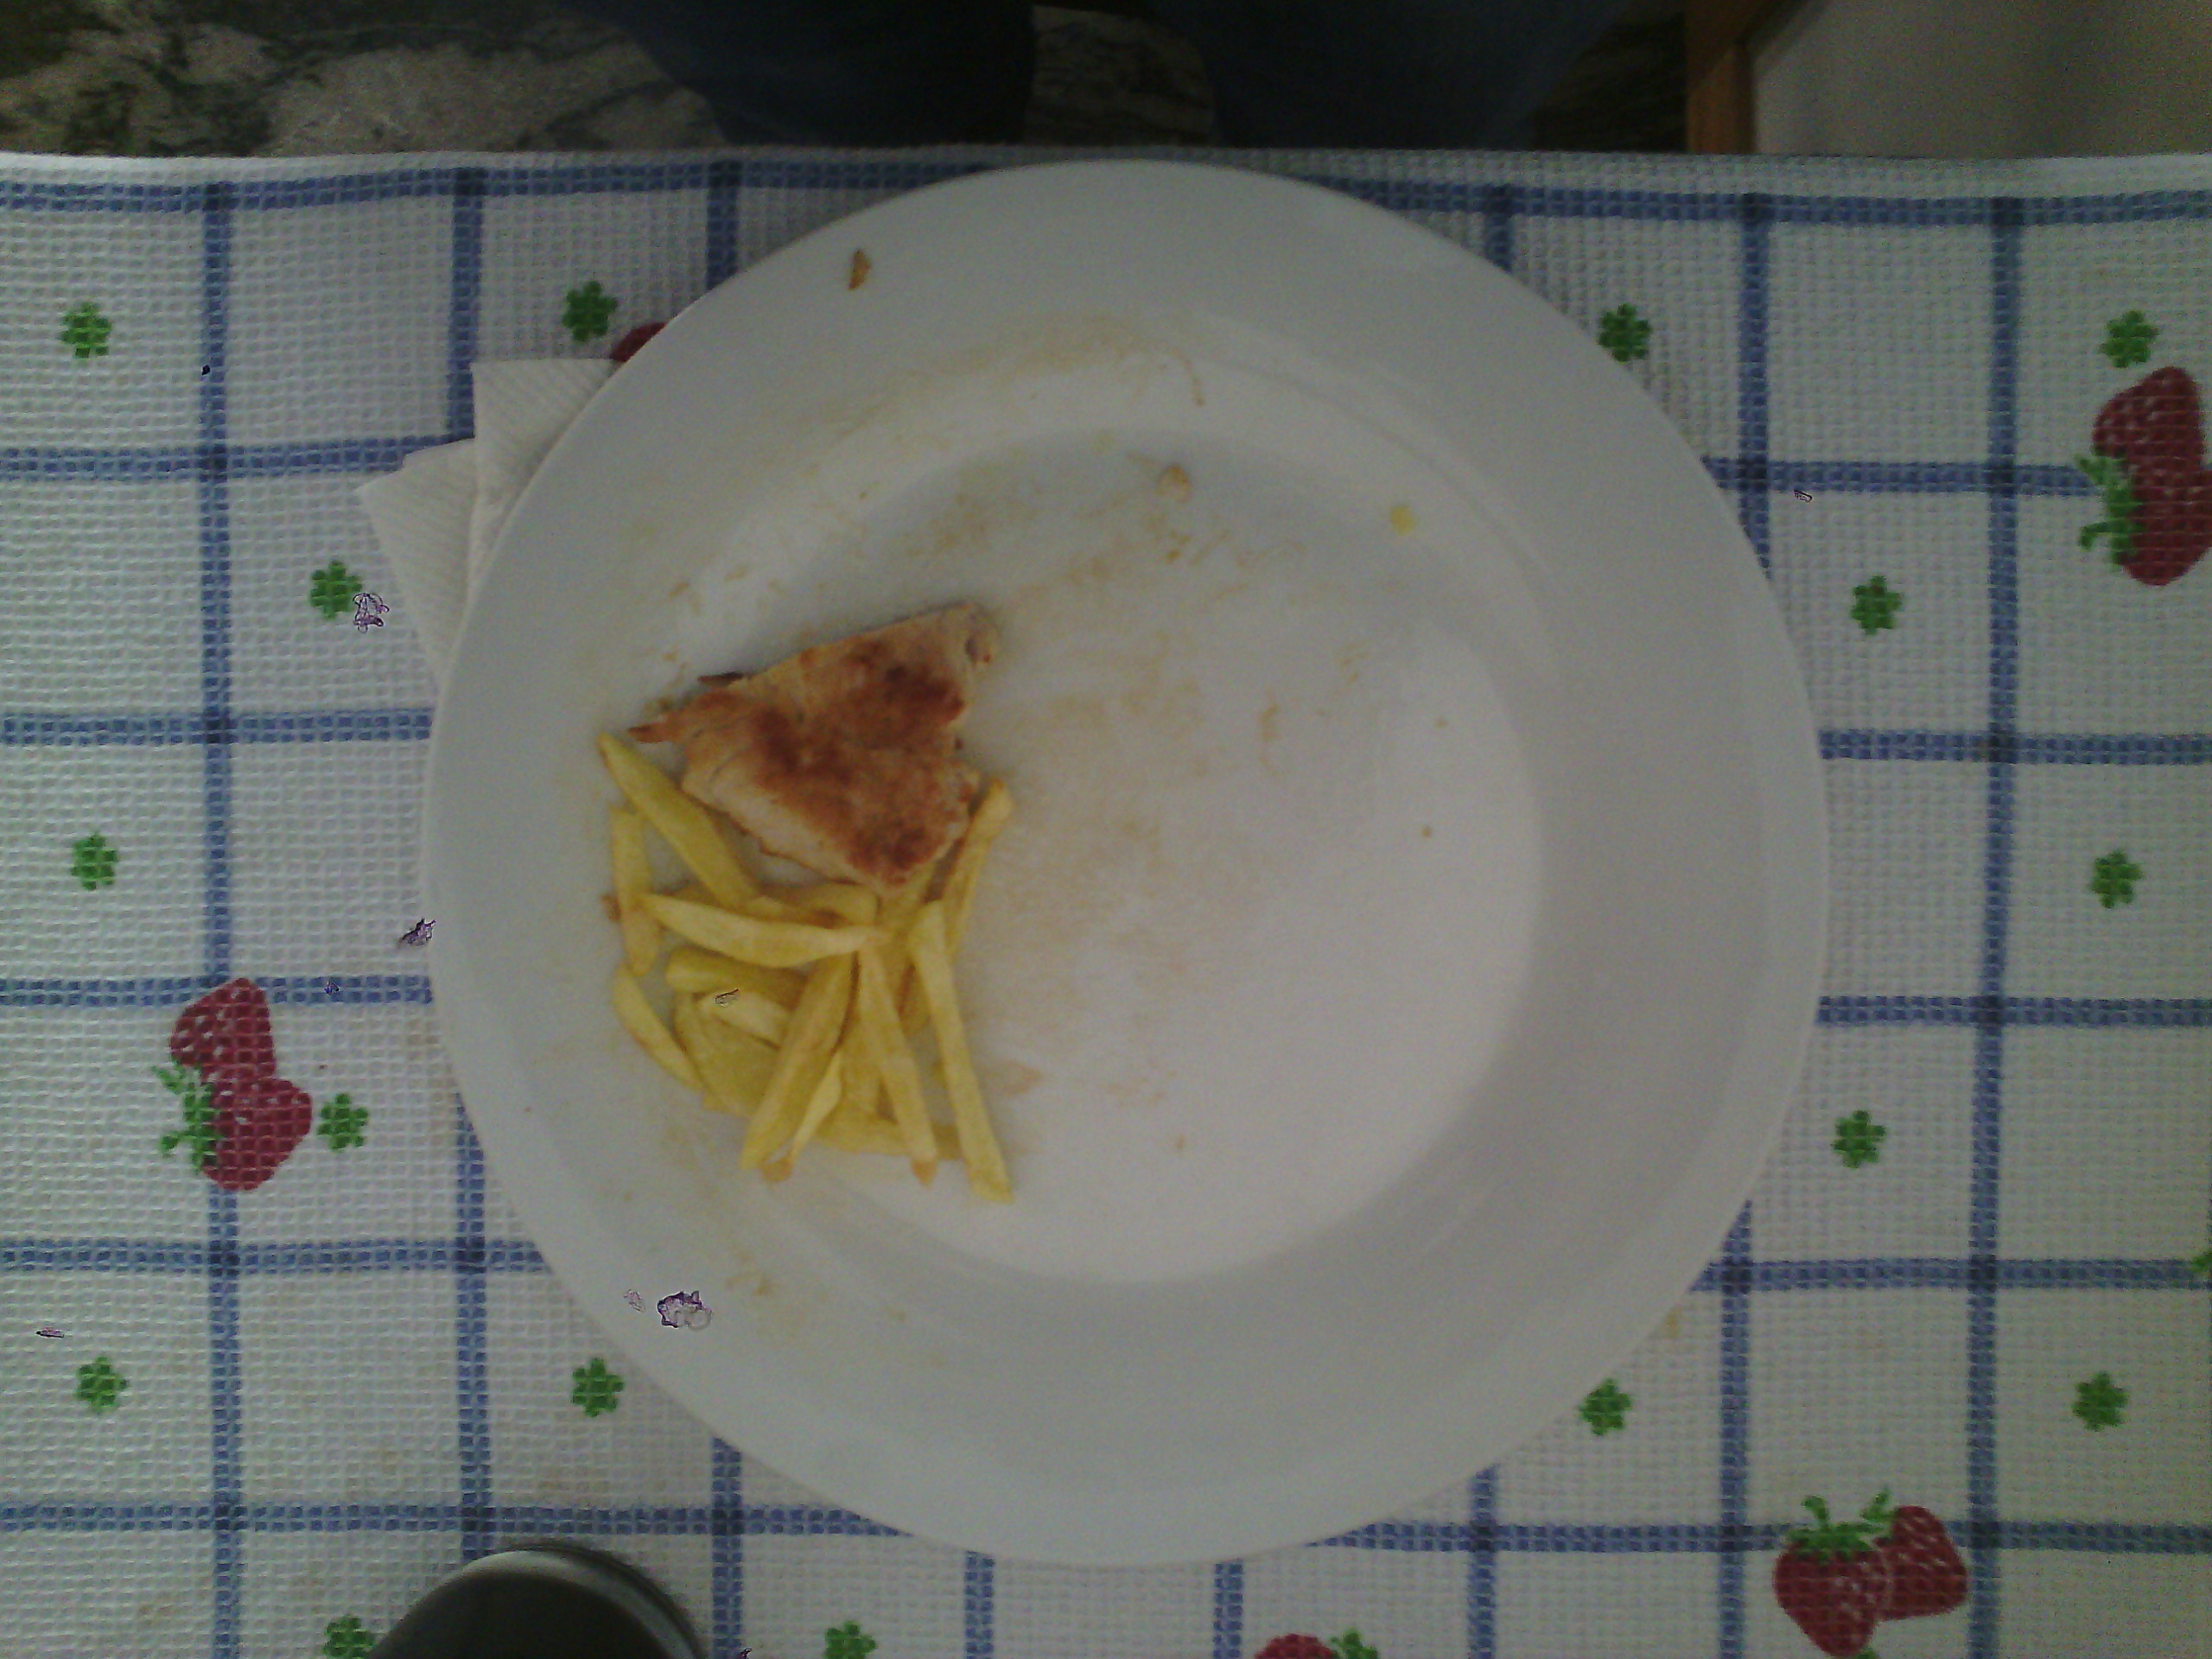21-40: (423, 162, 1829, 1560)
